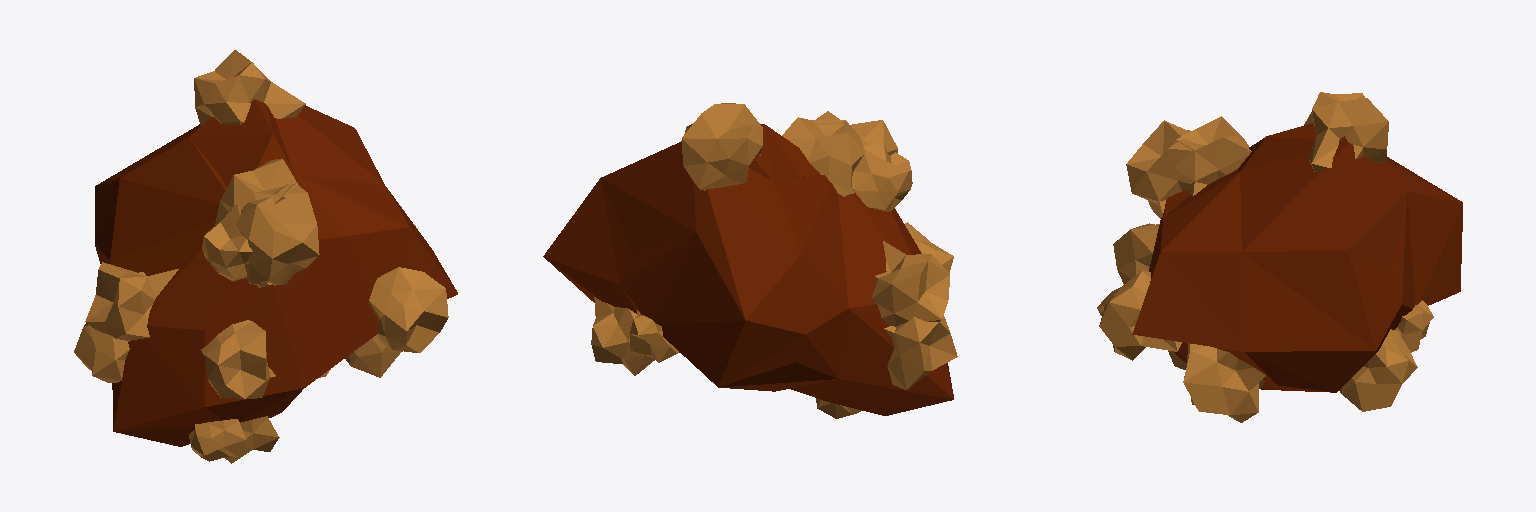
File: Metal7.obj
The picture shows the model from 3 angles: view 1: azimuth 30°, elevation 25°; view 2: azimuth 150°, elevation 25°; view 3: azimuth 270°, elevation 25°; orthographic projection.
Visible parts, largest first — view 1: Icosphere.012_Icosphere.014, Icosphere.003_Icosphere.005; view 2: Icosphere.012_Icosphere.014, Icosphere.003_Icosphere.005; view 3: Icosphere.012_Icosphere.014, Icosphere.003_Icosphere.005.
Boxes of the visible parts, <box> form: Icosphere.012_Icosphere.014: <box>95,99,457,446</box>; Icosphere.003_Icosphere.005: <box>74,50,448,463</box>; Icosphere.012_Icosphere.014: <box>543,124,953,415</box>; Icosphere.003_Icosphere.005: <box>591,103,957,418</box>; Icosphere.012_Icosphere.014: <box>1132,123,1462,392</box>; Icosphere.003_Icosphere.005: <box>1097,92,1433,422</box>.
Bounding box in the file's own units: 1.52 × 1.39 × 1.37.